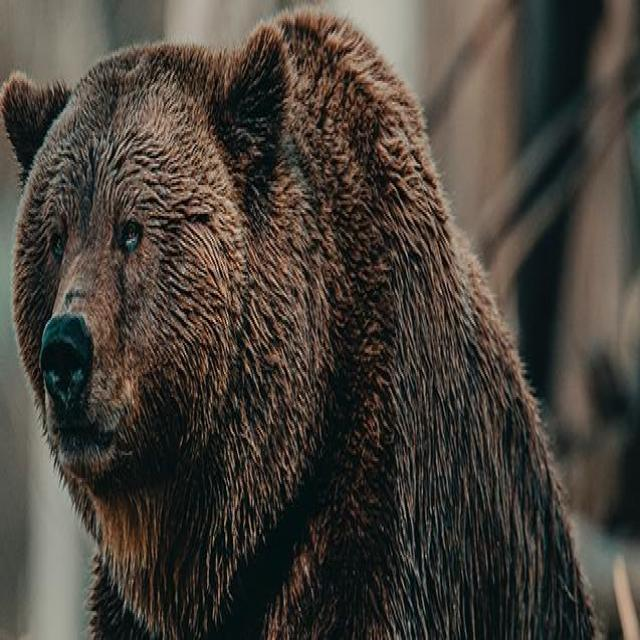Bear: (0, 8, 598, 640)
